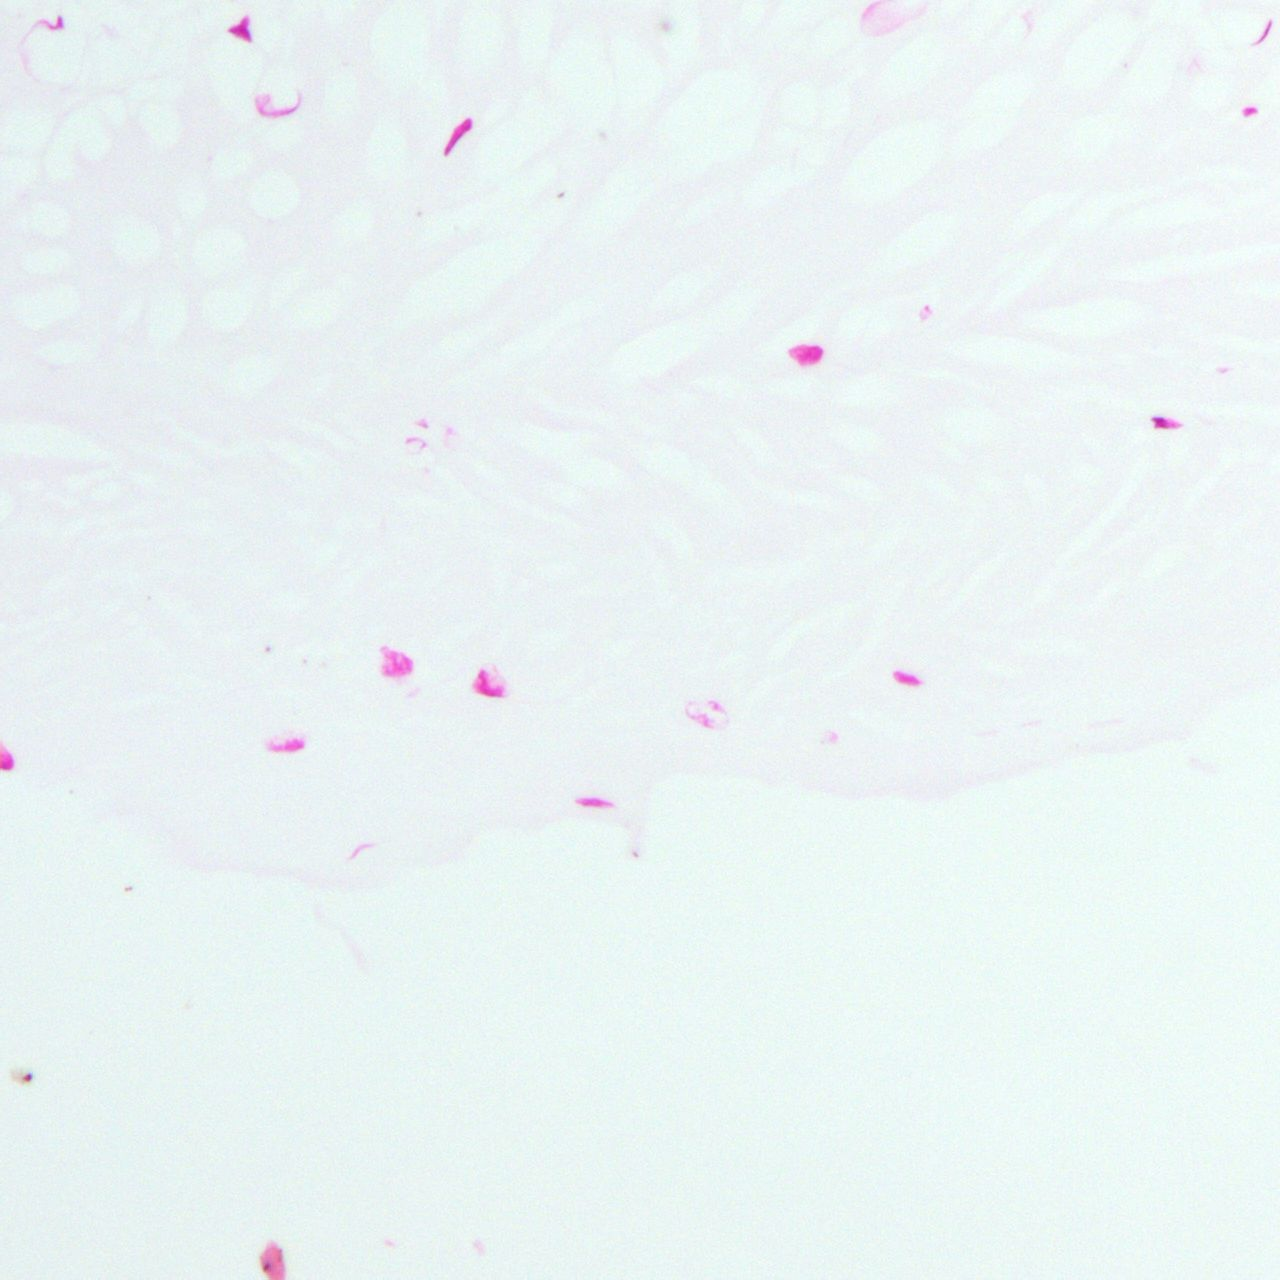dust: (10, 1067, 32, 1085), (556, 190, 565, 199), (124, 886, 132, 891)
nucleus-FG: (440, 114, 475, 160), (228, 15, 251, 40), (1152, 416, 1180, 427), (1243, 107, 1255, 115)
